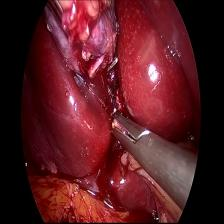Grasper: (111, 112, 152, 158)
